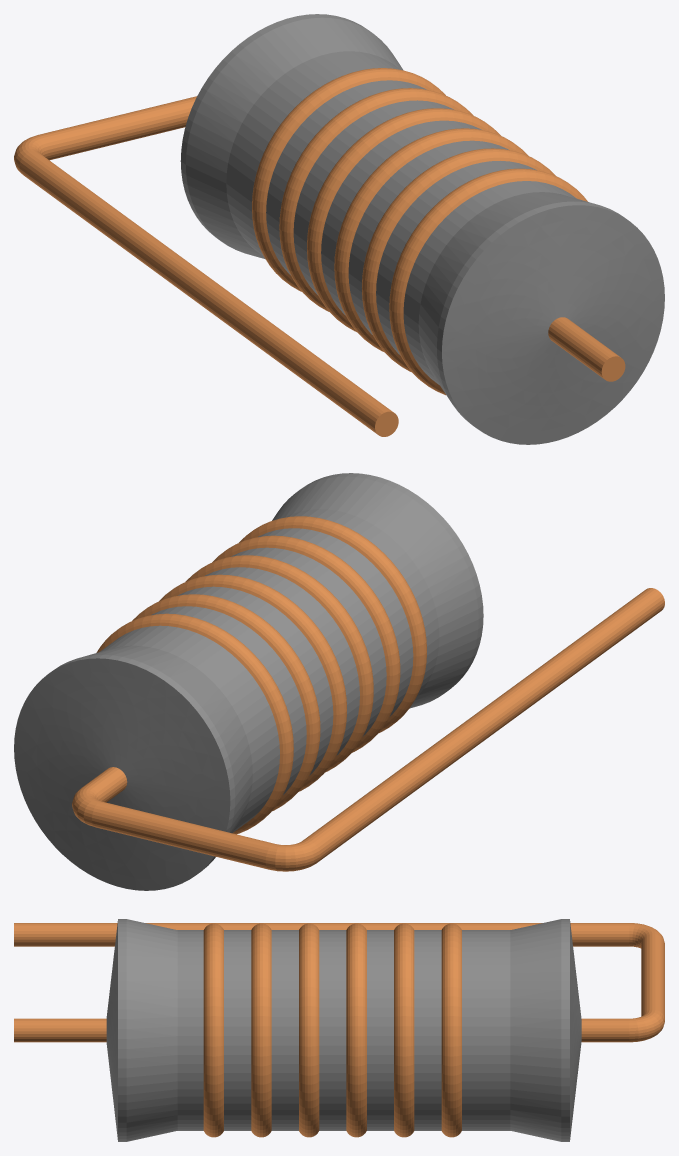
The model's file is L_Axial_L16.0mm_D7.5mm_P7.62mm_Vertical_Fastron_XHBCC.glb.
3 views of the same model, one above another, from view 1: azimuth 30°, elevation 25°; view 2: azimuth 150°, elevation 25°; view 3: azimuth 270°, elevation 25° (orthographic). The views are drawn at different scales.
Parts seen in each view (by area): view 1: Shape_IndexedFaceSet.002, Shape_IndexedFaceSet.018, Shape_IndexedFaceSet.025, Shape_IndexedFaceSet.017, Shape_IndexedFaceSet.004, Shape_IndexedFaceSet.006, Shape_IndexedFaceSet.014, Shape_IndexedFaceSet.010, Shape_IndexedFaceSet.008, Shape_IndexedFaceSet.016, Shape_IndexedFaceSet.012, Shape_IndexedFaceSet.005 (+9 smaller); view 2: Shape_IndexedFaceSet.020, Shape_IndexedFaceSet.004, Shape_IndexedFaceSet.025, Shape_IndexedFaceSet.017, Shape_IndexedFaceSet.018, Shape_IndexedFaceSet.023, Shape_IndexedFaceSet.016, Shape_IndexedFaceSet.014, Shape_IndexedFaceSet.010, Shape_IndexedFaceSet.008, Shape_IndexedFaceSet.012, Shape_IndexedFaceSet.006 (+11 smaller); view 3: Shape_IndexedFaceSet.004, Shape_IndexedFaceSet.018, Shape_IndexedFaceSet.017, Shape_IndexedFaceSet.025, Shape_IndexedFaceSet.007, Shape_IndexedFaceSet.009, Shape_IndexedFaceSet.011, Shape_IndexedFaceSet.015, Shape_IndexedFaceSet.005, Shape_IndexedFaceSet.013, Shape_IndexedFaceSet.006, Shape_IndexedFaceSet.010 (+13 smaller).
Boxes of the visible parts, left/top/right/bottom form: Shape_IndexedFaceSet.002: left=442, top=205, right=664, bottom=444; Shape_IndexedFaceSet.018: left=186, top=17, right=403, bottom=259; Shape_IndexedFaceSet.025: left=19, top=151, right=393, bottom=434; Shape_IndexedFaceSet.017: left=226, top=51, right=400, bottom=256; Shape_IndexedFaceSet.004: left=418, top=192, right=594, bottom=402; Shape_IndexedFaceSet.006: left=389, top=168, right=587, bottom=395; Shape_IndexedFaceSet.014: left=279, top=88, right=473, bottom=311; Shape_IndexedFaceSet.010: left=334, top=128, right=528, bottom=352; Shape_IndexedFaceSet.008: left=362, top=148, right=555, bottom=372; Shape_IndexedFaceSet.016: left=252, top=68, right=445, bottom=291; Shape_IndexedFaceSet.012: left=307, top=108, right=500, bottom=331; Shape_IndexedFaceSet.005: left=403, top=181, right=576, bottom=384; Shape_IndexedFaceSet.020: left=14, top=658, right=230, bottom=890; Shape_IndexedFaceSet.004: left=272, top=476, right=478, bottom=708; Shape_IndexedFaceSet.025: left=302, top=588, right=664, bottom=863; Shape_IndexedFaceSet.017: left=100, top=625, right=279, bottom=832; Shape_IndexedFaceSet.018: left=79, top=645, right=252, bottom=833; Shape_IndexedFaceSet.023: left=92, top=801, right=274, bottom=869; Shape_IndexedFaceSet.016: left=96, top=613, right=293, bottom=834; Shape_IndexedFaceSet.014: left=132, top=594, right=320, bottom=811; Shape_IndexedFaceSet.010: left=185, top=555, right=373, bottom=772; Shape_IndexedFaceSet.008: left=212, top=535, right=400, bottom=752; Shape_IndexedFaceSet.012: left=159, top=574, right=346, bottom=791; Shape_IndexedFaceSet.006: left=239, top=516, right=426, bottom=732; Shape_IndexedFaceSet.004: left=126, top=919, right=177, bottom=1141; Shape_IndexedFaceSet.018: left=510, top=919, right=561, bottom=1141; Shape_IndexedFaceSet.017: left=462, top=930, right=510, bottom=1130; Shape_IndexedFaceSet.025: left=14, top=923, right=629, bottom=946; Shape_IndexedFaceSet.007: left=224, top=930, right=251, bottom=1130; Shape_IndexedFaceSet.009: left=271, top=930, right=298, bottom=1130; Shape_IndexedFaceSet.011: left=319, top=930, right=346, bottom=1130; Shape_IndexedFaceSet.015: left=414, top=930, right=441, bottom=1130; Shape_IndexedFaceSet.005: left=177, top=930, right=203, bottom=1130; Shape_IndexedFaceSet.013: left=367, top=930, right=393, bottom=1130; Shape_IndexedFaceSet.006: left=203, top=923, right=223, bottom=1137; Shape_IndexedFaceSet.010: left=299, top=923, right=319, bottom=1137.
Bounding box in the file's own units: 4.63 × 2.95 × 8.62.
